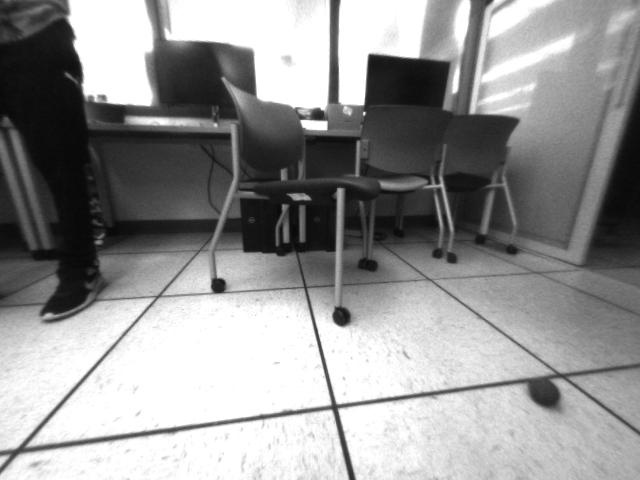dogtoy: (521, 369, 568, 410)
